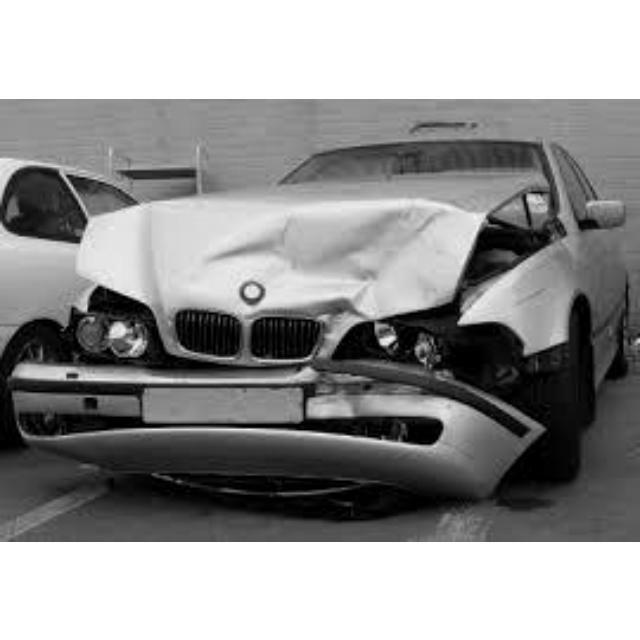bonnet-dent: (91, 186, 460, 332)
front-bumper-dent: (22, 352, 505, 484)
